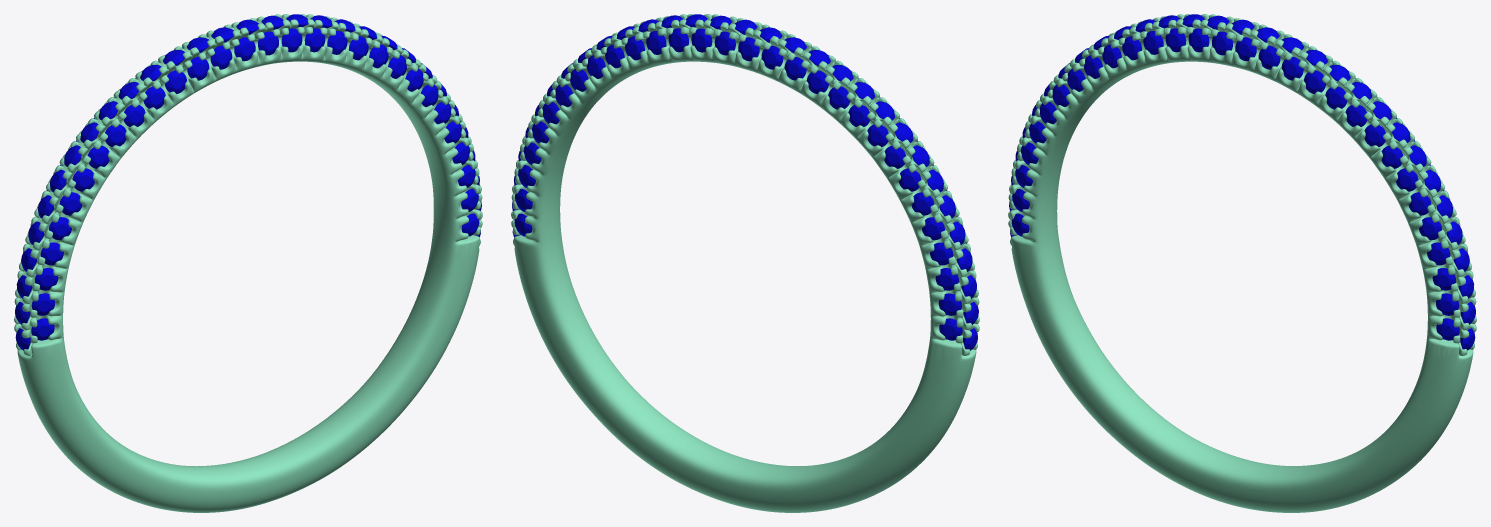
The picture shows the model from 3 angles, left to right: view 1: azimuth 30°, elevation 25°; view 2: azimuth 150°, elevation 25°; view 3: azimuth 330°, elevation 25°; orthographic projection.
Visible parts, largest first — view 1: Metal03; view 2: Metal03; view 3: Metal03.
Boxes of the visible parts, x1,y1,x2,y2 form: Metal03: (14,14,482,512); Metal03: (511,14,979,512); Metal03: (1008,14,1476,512).
Size of the model in its own units: 20.92 by 20.95 by 1.86.
